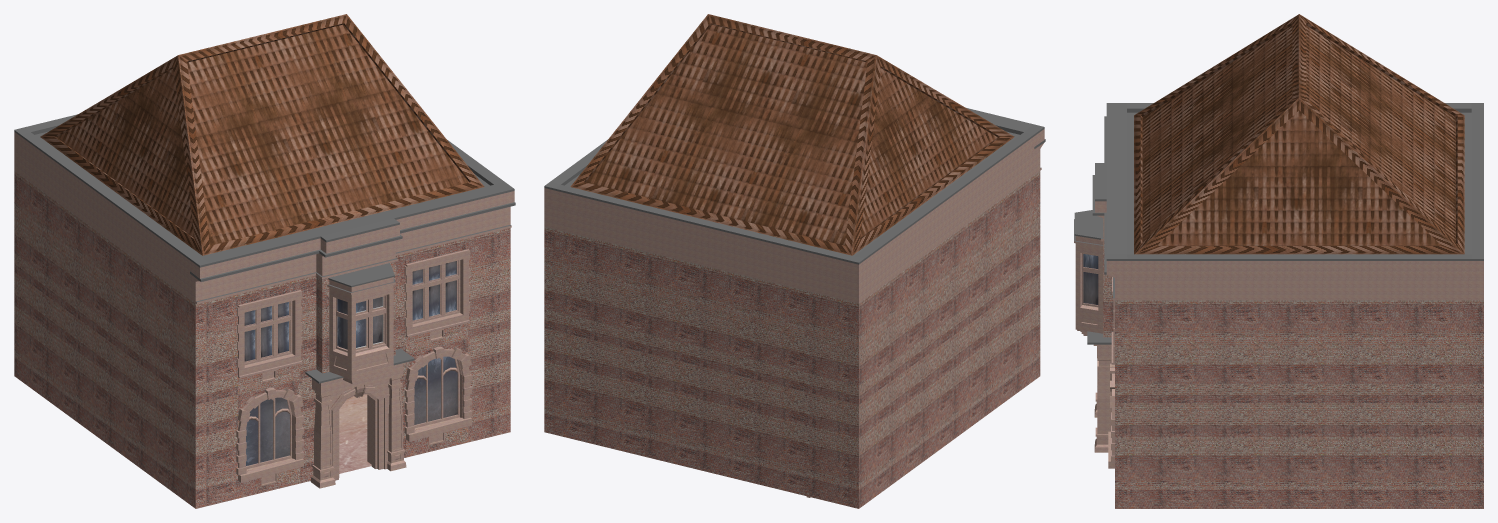
Rendered from smallhouse.fbx.
The picture shows the model from 3 angles, left to right: view 1: azimuth 30°, elevation 25°; view 2: azimuth 150°, elevation 25°; view 3: azimuth 270°, elevation 25°; orthographic projection.
Parts seen in each view (by area): view 1: TURKISHBATH; view 2: TURKISHBATH; view 3: TURKISHBATH.
Boxes of the visible parts, bbox=[...] form: TURKISHBATH: bbox=[14, 14, 515, 508]; TURKISHBATH: bbox=[544, 14, 1045, 508]; TURKISHBATH: bbox=[1074, 14, 1483, 508].
Bounding box in the file's own units: 2207 × 2524 × 2451.
Materials: 7 (4 with a texture image).
